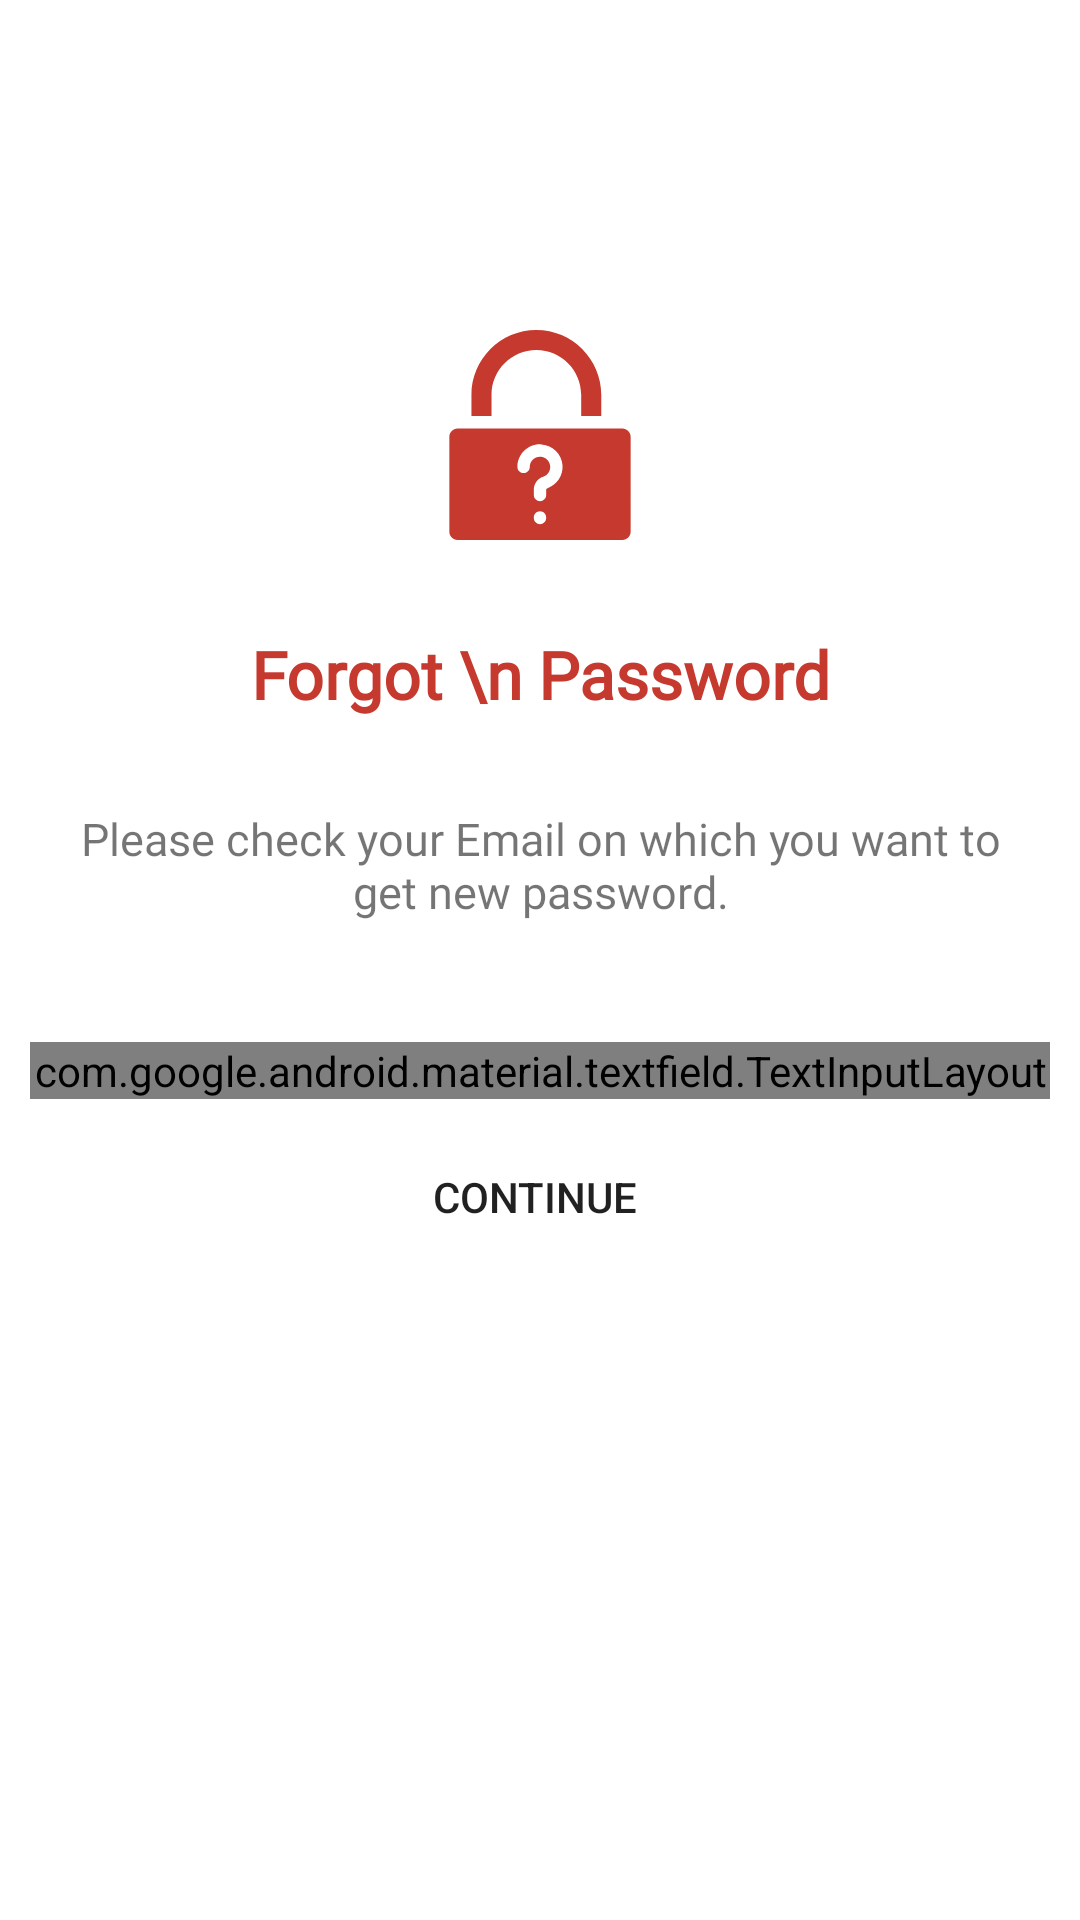

Screen size 1080x1920. Icon name, then its box in pixels as (x1, y1, x2, y2):
forget password: (449, 330, 631, 540)
